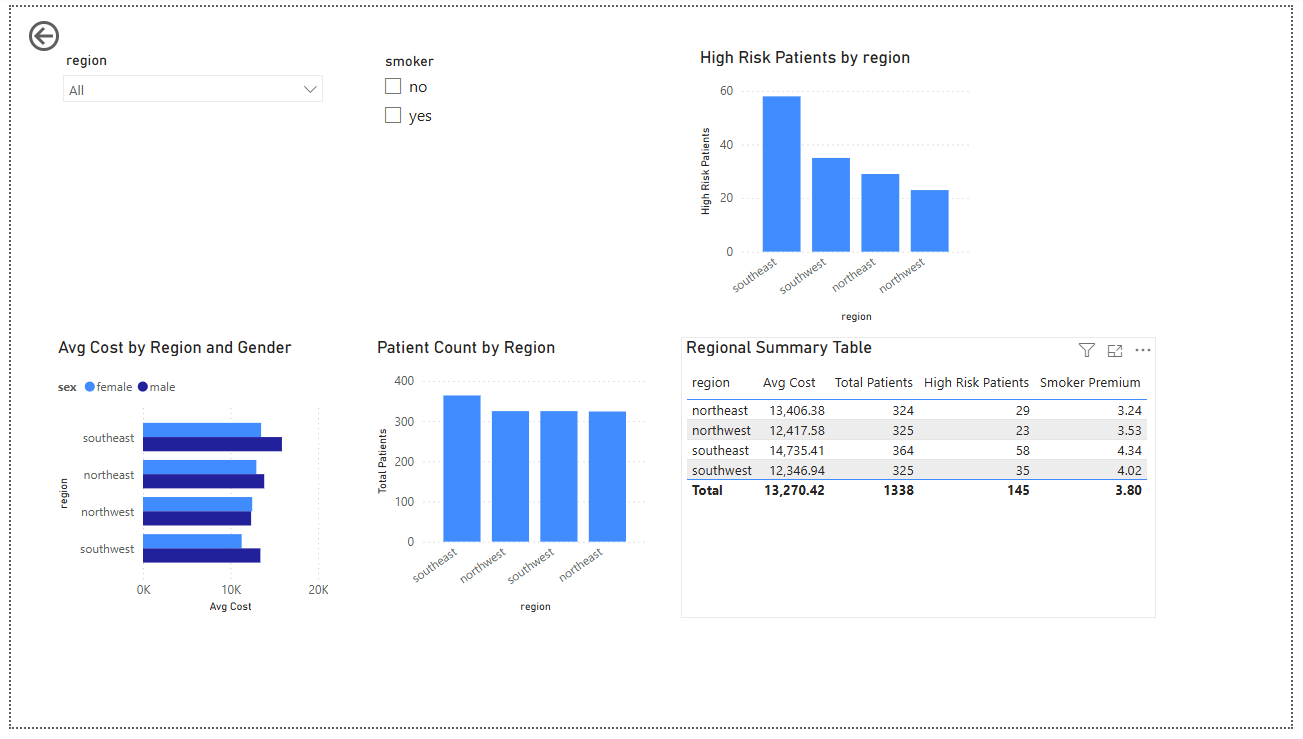

The page's visual inventory and layout, read from the dashboard file:
{"tool":"powerbi","page":{"name":"Regional Deep Dive","canvas":[1280,720],"ordinal":1},"visuals":[{"type":"slicer","fields":{"Values":["insurance.region"]},"box":[42.3,39.7,280,280],"z":0},{"type":"actionButton","box":[12.9,8.6,100,40],"z":1},{"type":"slicer","fields":{"Values":["insurance.smoker"]},"box":[360.5,40.5,280,280],"z":2},{"type":"clusteredBarChart","title":"Avg Cost by Region and Gender","fields":{"Category":["insurance.region"],"Series":["insurance.sex"],"Y":["insurance.Avg Cost"]},"box":[42,330,280,280],"z":3},{"type":"clusteredColumnChart","title":"Patient Count by Region","fields":{"Category":["insurance.region"],"Y":["insurance.Total Patients"]},"box":[361,330,280,280],"z":4},{"type":"clusteredColumnChart","fields":{"Category":["insurance.region"],"Y":["insurance.High Risk Patients"]},"box":[684,39.7,280,280],"z":5},{"type":"tableEx","title":"Regional Summary Table","fields":{"Values":["insurance.region","insurance.Avg Cost","insurance.Total Patients","insurance.High Risk Patients","insurance.Smoker Premium"]},"box":[670.2,330.4,475.3,280.3],"z":6}]}

Visuals, with their boxes in screenshot pixels (x1, y1, x2, y2), scaled from the page's 1280x720 canvas onto the 1303x739 screenshot:
slicer - insurance.region: box(43, 41, 328, 328)
actionButton: box(13, 9, 115, 50)
slicer - insurance.smoker: box(367, 42, 652, 329)
"Avg Cost by Region and Gender" clusteredBarChart: box(43, 339, 328, 626)
"Patient Count by Region" clusteredColumnChart: box(367, 339, 653, 626)
clusteredColumnChart - insurance.region x insurance.High Risk Patients: box(696, 41, 981, 328)
"Regional Summary Table" tableEx: box(682, 339, 1166, 627)
